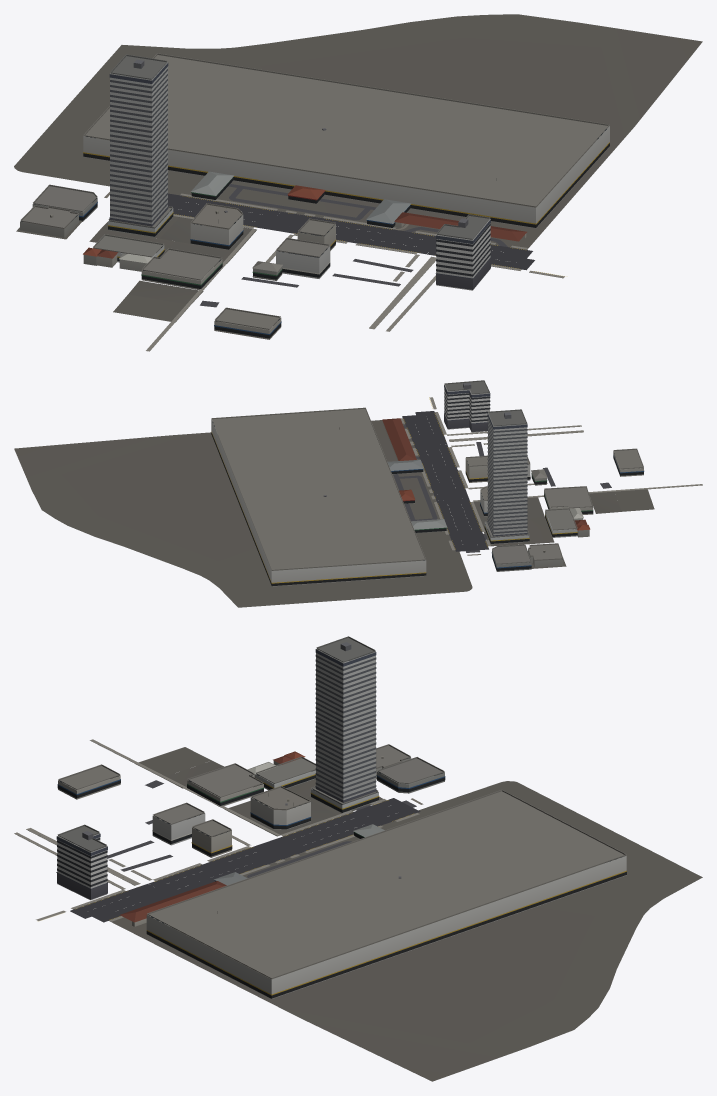
The picture shows the model from 3 angles, top to bottom: view 1: azimuth 30°, elevation 25°; view 2: azimuth 150°, elevation 25°; view 3: azimuth 270°, elevation 25°; orthographic projection. The views are drawn at different scales.
Parts seen in each view (by area): view 1: Landuse__r-11c2, SM City Cebu-col, Buildings__r-11c2-col, Roads_Major__r-11c2, Sidewalks__r-11c2-col, Roads_Minor__r-11c2, Windows__r-11c2, C.L. Benedicto Building-col, BPI.003-col, Sunvida Tower-col; view 2: Landuse__r-11c2, SM City Cebu-col, Buildings__r-11c2-col, Roads_Major__r-11c2, Sidewalks__r-11c2-col, Windows__r-11c2, Roads_Minor__r-11c2, BPI.003-col, Sunvida Tower-col; view 3: SM City Cebu-col, Landuse__r-11c2, Buildings__r-11c2-col, Roads_Major__r-11c2, Sidewalks__r-11c2-col, Windows__r-11c2, C.L. Benedicto Building-col, BPI.003-col, Roads_Minor__r-11c2, Sunvida Tower-col.
Part boxes in pixels (<box>): Landuse__r-11c2: <box>14,14,702,322</box>; SM City Cebu-col: <box>83,53,609,228</box>; Buildings__r-11c2-col: <box>20,54,526,339</box>; Roads_Major__r-11c2: <box>168,193,534,270</box>; Sidewalks__r-11c2-col: <box>146,193,564,351</box>; Roads_Minor__r-11c2: <box>200,184,507,307</box>; Windows__r-11c2: <box>21,177,410,338</box>; C.L. Benedicto Building-col: <box>276,238,330,278</box>; BPI.003-col: <box>297,218,336,250</box>; Sunvida Tower-col: <box>108,206,173,237</box>; Landuse__r-11c2: <box>14,420,654,607</box>; SM City Cebu-col: <box>211,407,426,586</box>; Buildings__r-11c2-col: <box>382,380,643,571</box>; Roads_Major__r-11c2: <box>402,411,488,551</box>; Sidewalks__r-11c2-col: <box>400,397,702,550</box>; Windows__r-11c2: <box>391,453,644,570</box>; Roads_Minor__r-11c2: <box>393,424,611,552</box>; BPI.003-col: <box>465,455,487,482</box>; Sunvida Tower-col: <box>484,521,529,544</box>; SM City Cebu-col: <box>146,790,626,998</box>; Landuse__r-11c2: <box>109,747,702,1081</box>; Buildings__r-11c2-col: <box>56,636,444,926</box>; Roads_Major__r-11c2: <box>70,798,420,922</box>; Sidewalks__r-11c2-col: <box>14,739,419,921</box>; Windows__r-11c2: <box>57,758,445,881</box>; C.L. Benedicto Building-col: <box>152,802,205,845</box>; BPI.003-col: <box>191,819,232,857</box>; Roads_Minor__r-11c2: <box>107,780,416,877</box>; Sunvida Tower-col: <box>310,786,379,813</box>.
Bounding box in the file's own units: 528 × 111 × 449.
